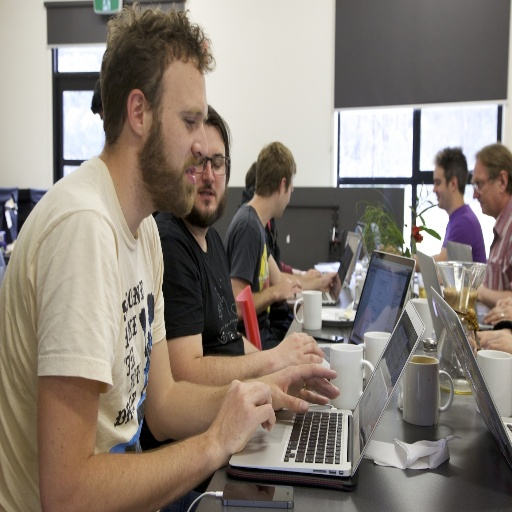hand: (206, 364, 281, 470), (251, 364, 339, 412), (267, 329, 324, 375), (479, 327, 511, 354), (271, 276, 301, 301), (482, 301, 511, 326), (378, 235, 401, 255), (315, 271, 335, 289), (497, 294, 511, 305), (305, 267, 318, 277)
